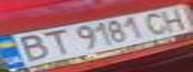1: (121, 14, 148, 40), (90, 20, 112, 47)
8: (106, 17, 130, 44)
9: (72, 22, 96, 51)
B: (6, 32, 54, 62)
C: (139, 10, 175, 35)
H: (154, 6, 190, 31)
T: (33, 27, 72, 57)
